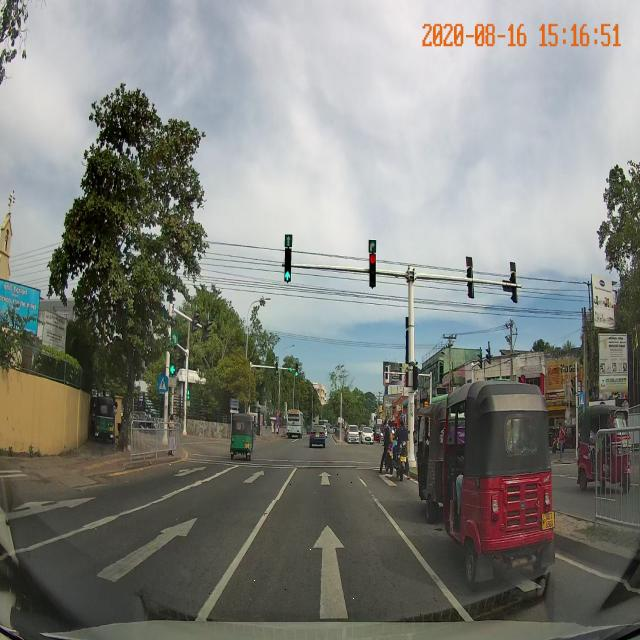diamond: (199, 501, 456, 620), (280, 469, 373, 492)
